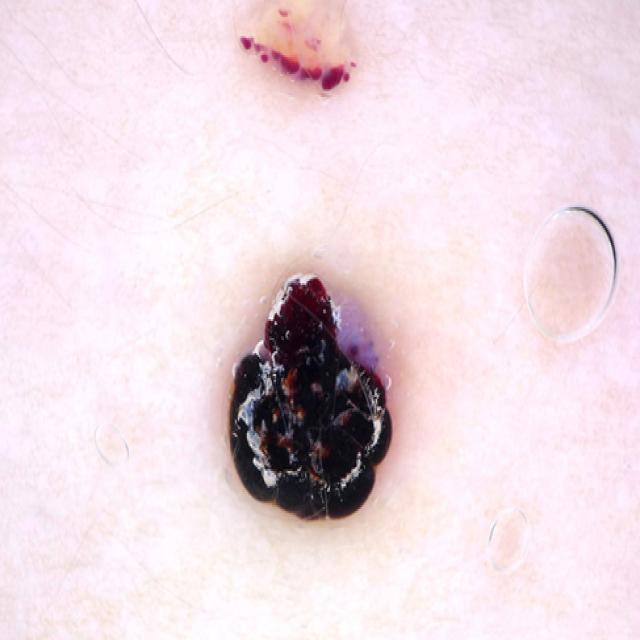Vascular Lesions: (214, 233, 442, 575)
